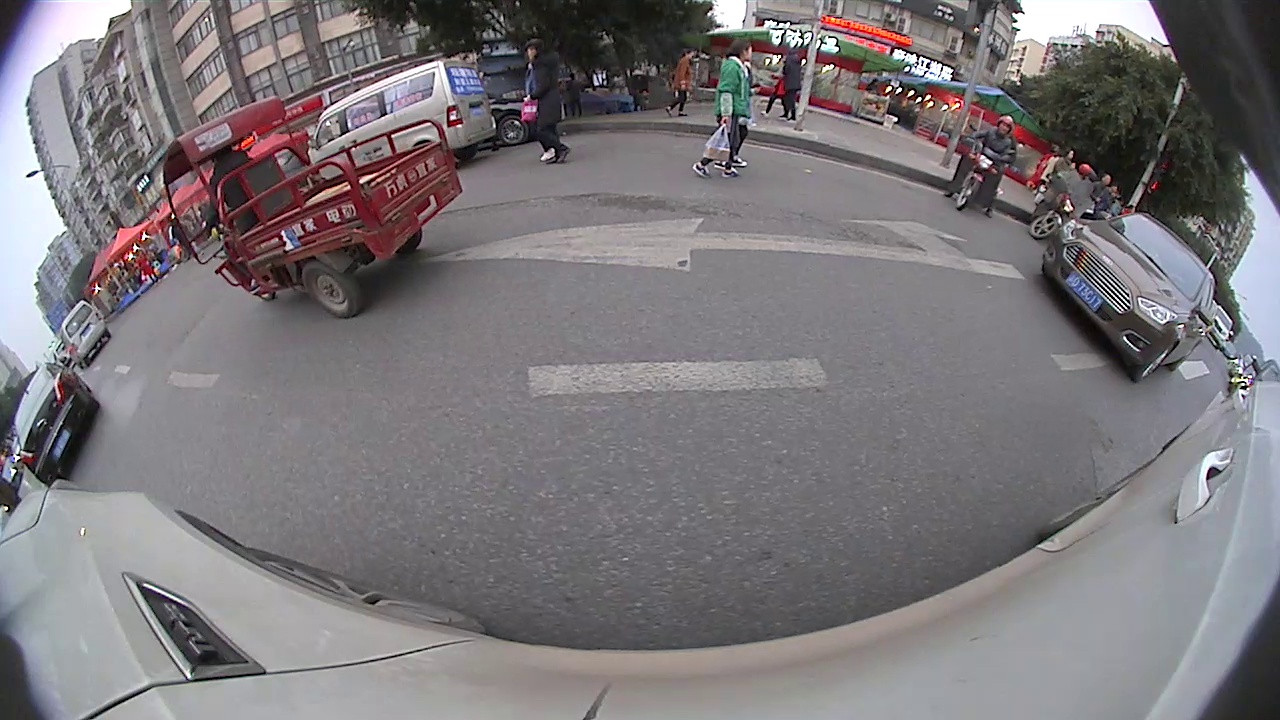car: (1036, 208, 1219, 384), (307, 55, 500, 178), (6, 359, 106, 489), (55, 299, 111, 363)
front: (493, 111, 532, 149), (1028, 210, 1060, 240)
person: (523, 36, 564, 169), (719, 35, 751, 185)
rear: (297, 254, 364, 320)
rider: (159, 92, 462, 321), (958, 101, 1012, 225), (1026, 157, 1092, 239)
